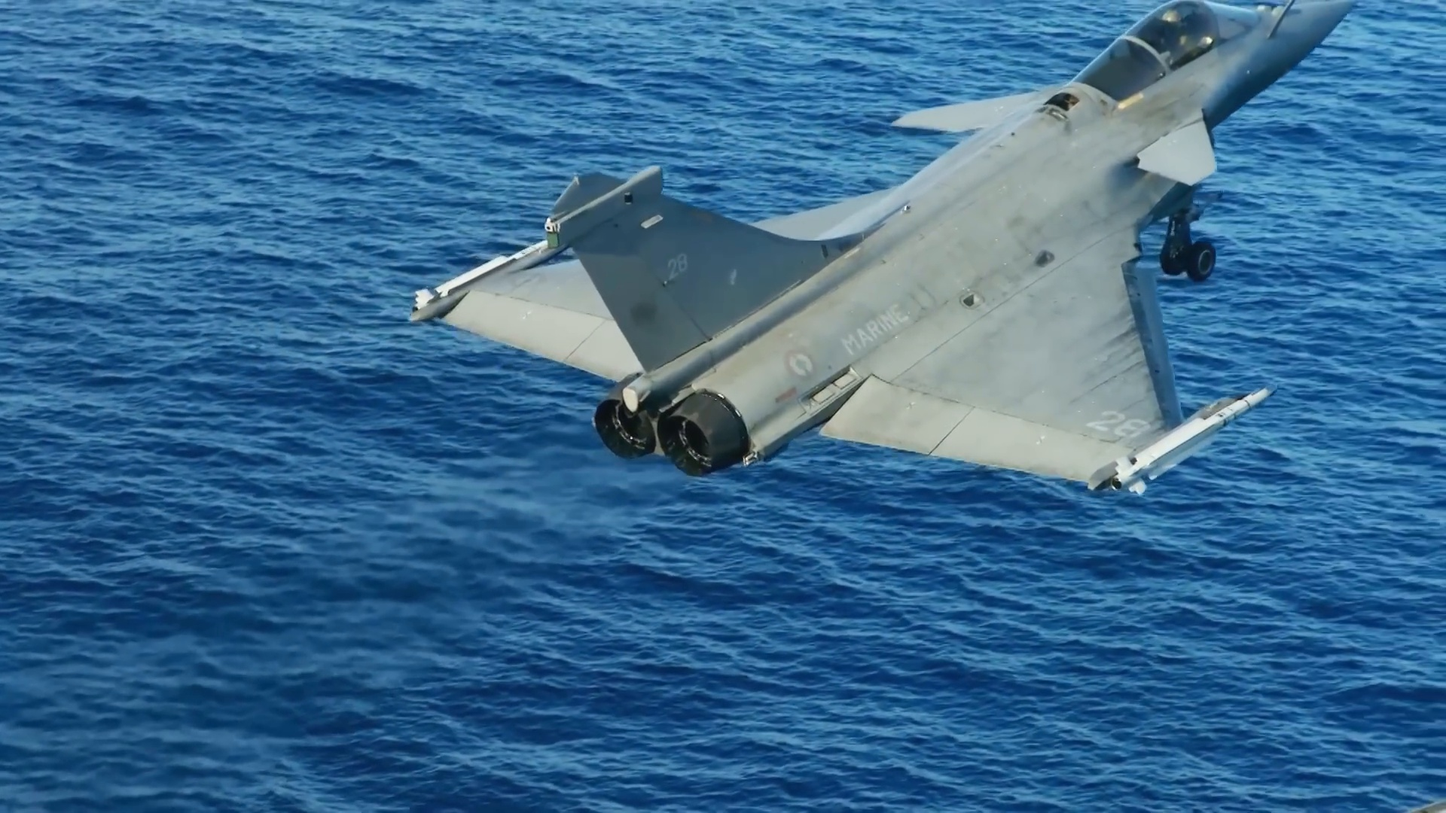Rafale: (390, 1, 1376, 505)
